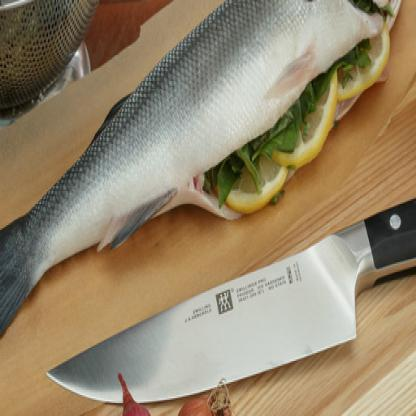knife: (45, 157, 415, 408)
